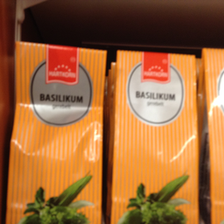spices: (7, 41, 107, 223), (109, 48, 200, 224)
